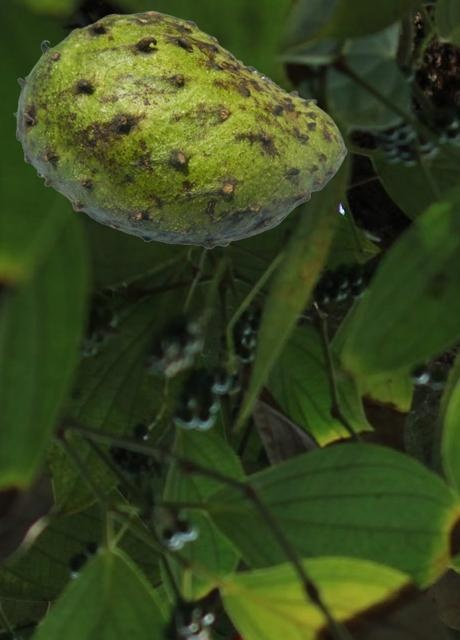guyabano: (13, 10, 346, 248)
